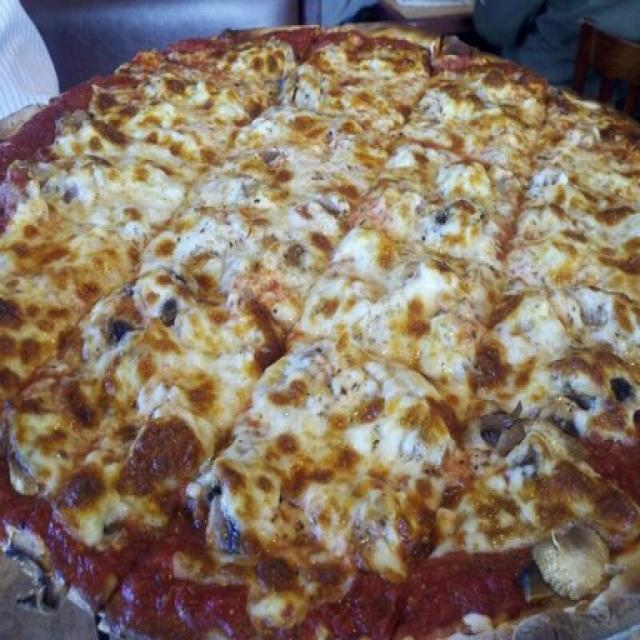Cheese: (62, 124, 530, 383)
Mushrooms: (526, 519, 609, 603), (476, 399, 527, 457), (563, 380, 600, 415)
Pizza: (0, 23, 640, 640)
